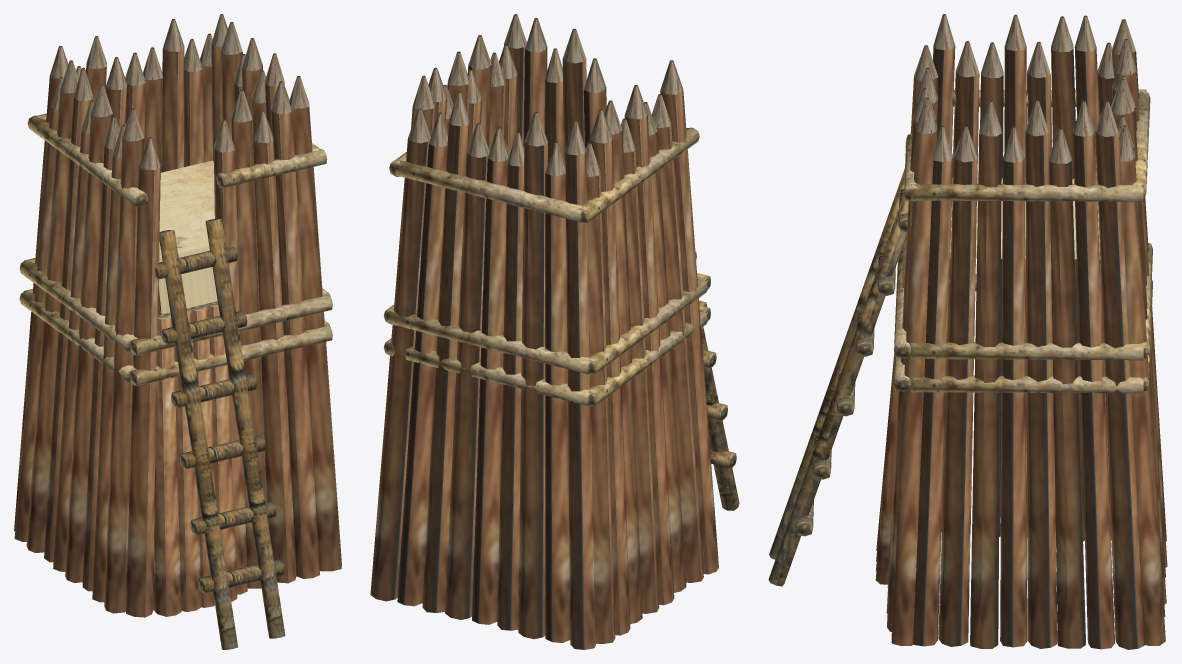
The model's file is wood_tower.dae.
3 renders of one model, left to right at view 1: azimuth 30°, elevation 25°; view 2: azimuth 150°, elevation 25°; view 3: azimuth 270°, elevation 25°, orthographic. The views are drawn at different scales.
Parts seen in each view (by area): view 1: wood_tower; view 2: wood_tower; view 3: wood_tower.
Part boxes in pixels (<box>): wood_tower: <box>14,14,341,649</box>; wood_tower: <box>370,14,739,649</box>; wood_tower: <box>768,14,1167,649</box>.
Bounding box in the file's own units: 6.41 × 8.79 × 12.97.
